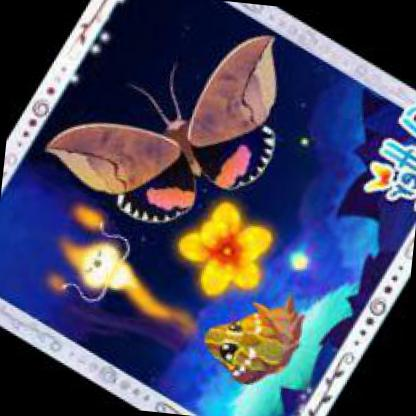fruit sucking moth: (41, 34, 277, 225)
